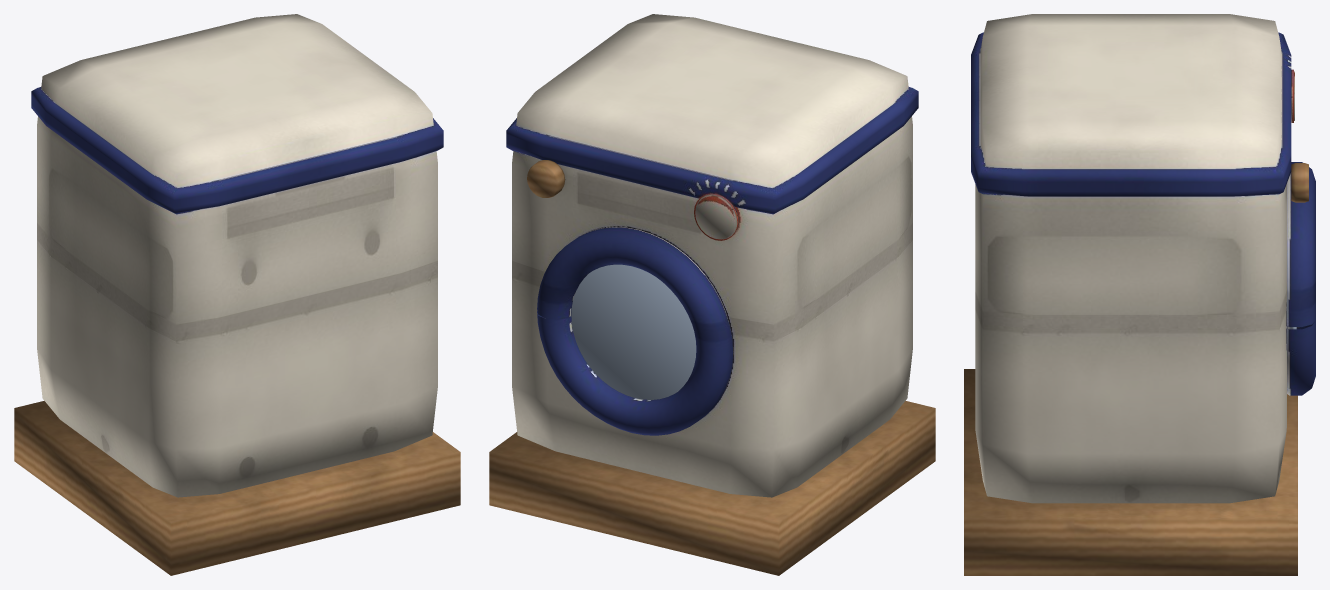
Rendered from dryer.glb.
3 renders of one model, left to right at view 1: azimuth 30°, elevation 25°; view 2: azimuth 150°, elevation 25°; view 3: azimuth 270°, elevation 25°, orthographic. The views are drawn at different scales.
Parts seen in each view (by area): view 1: prop_dryer_felt, prop_dryer_wood; view 2: prop_dryer_felt, prop_dryer_wood, prop_dryer_glass; view 3: prop_dryer_felt, prop_dryer_wood.
Boxes of the visible parts, box(x1,y1,x2,y2) form: prop_dryer_felt: box(31, 14, 443, 497); prop_dryer_wood: box(14, 401, 460, 575); prop_dryer_felt: box(506, 14, 918, 497); prop_dryer_wood: box(489, 160, 935, 575); prop_dryer_glass: box(571, 264, 696, 399); prop_dryer_felt: box(971, 14, 1315, 503); prop_dryer_wood: box(964, 163, 1308, 575).
Bounding box in the file's own units: 1.6 × 2.12 × 1.58.
Materials: 3 (2 with a texture image).
